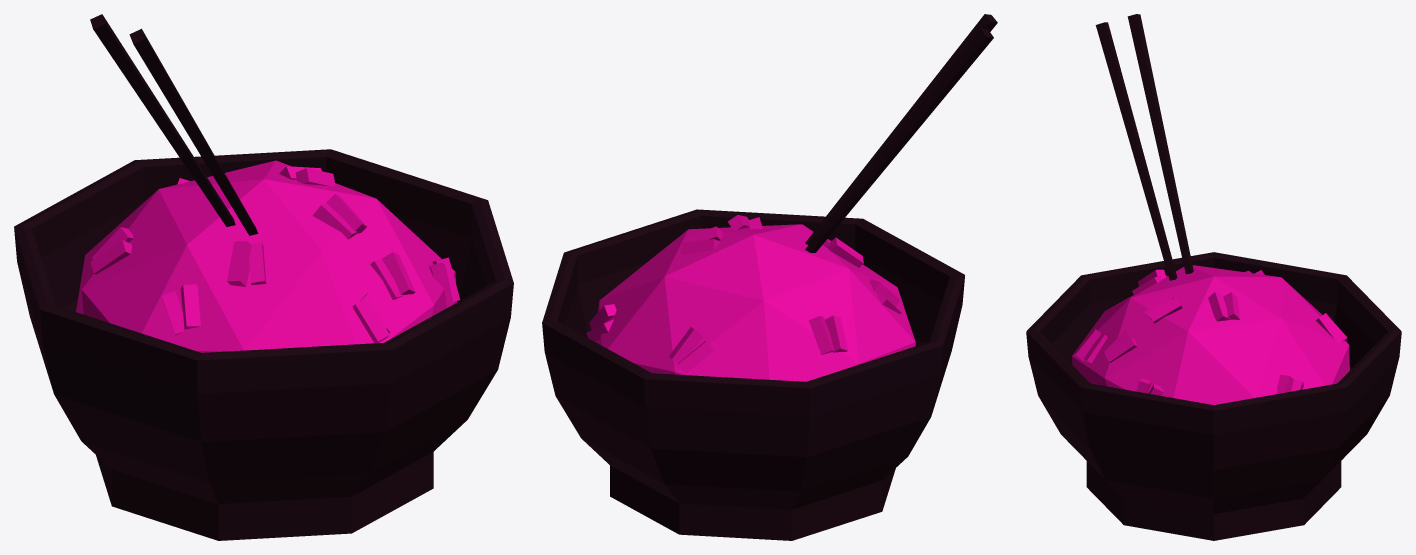
The model's file is BowlOfRice_01.fbx.
3 views of the same model, side by side, from view 1: azimuth 30°, elevation 25°; view 2: azimuth 150°, elevation 25°; view 3: azimuth 270°, elevation 25° (orthographic). The views are drawn at different scales.
Visible parts, largest first — view 1: BowlOfRice_01; view 2: BowlOfRice_01; view 3: BowlOfRice_01.
Boxes of the visible parts, x1=… form: BowlOfRice_01: x1=14, y1=14, x2=513, y2=540; BowlOfRice_01: x1=542, y1=14, x2=997, y2=540; BowlOfRice_01: x1=1026, y1=14, x2=1401, y2=540.
Bounding box in the file's own units: 5.97 × 6.9 × 5.92.
